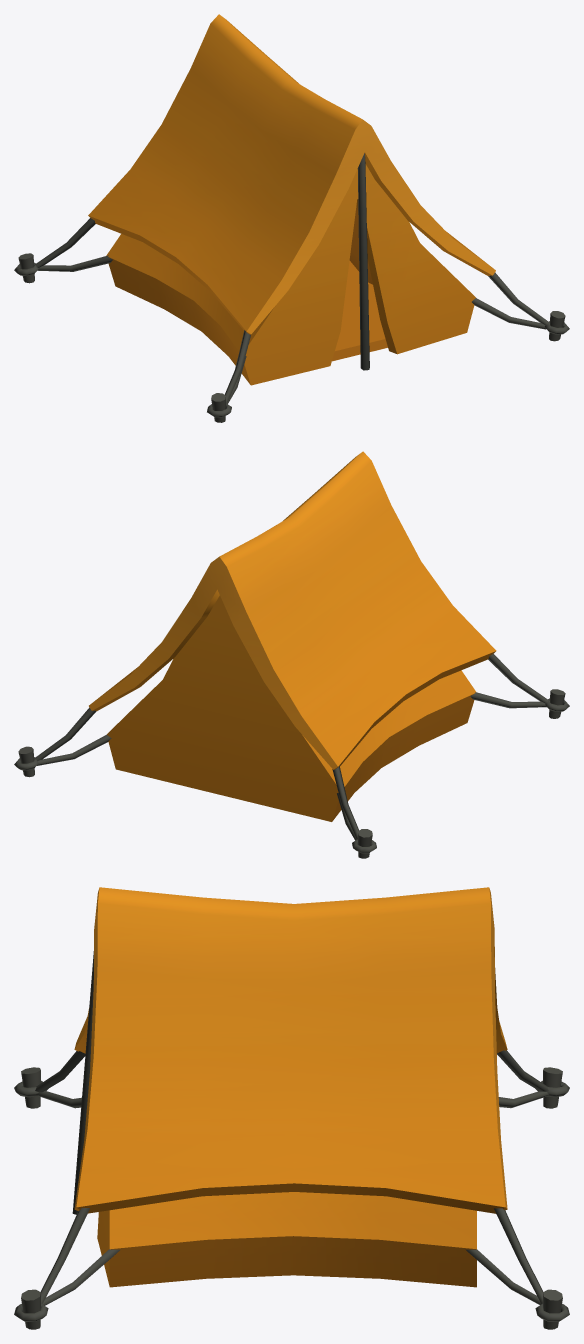
Rendered from SM_Tent_C.fbx.
The picture shows the model from 3 angles, top to bottom: view 1: azimuth 30°, elevation 25°; view 2: azimuth 150°, elevation 25°; view 3: azimuth 270°, elevation 25°; orthographic projection. The views are drawn at different scales.
Visible parts, largest first — view 1: SM_Tent_C; view 2: SM_Tent_C; view 3: SM_Tent_C.
Part boxes in pixels (x1=…): SM_Tent_C: x1=14, y1=14, x2=569, y2=422; SM_Tent_C: x1=14, y1=451, x2=569, y2=858; SM_Tent_C: x1=14, y1=887, x2=569, y2=1329.
Size of the model in its own units: 306 by 197 by 303.
